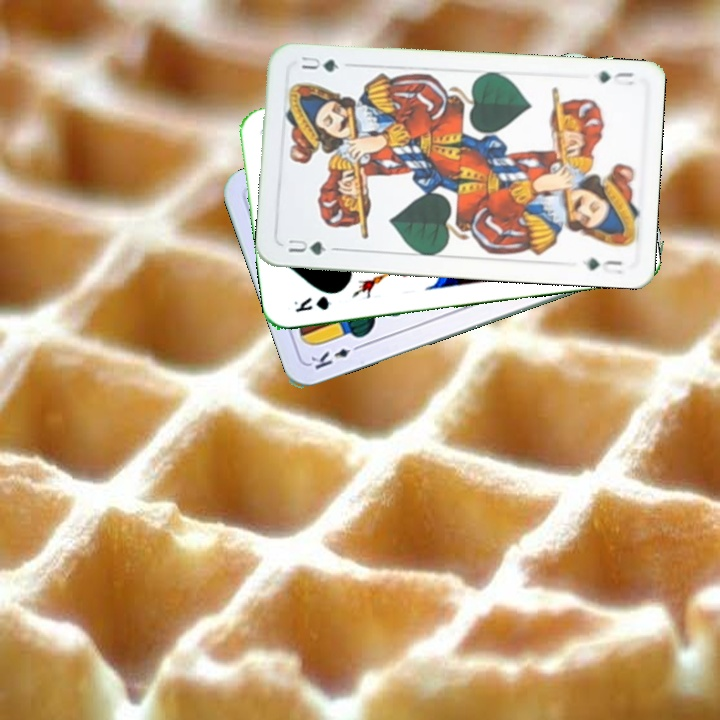EK: (306, 340, 365, 372)
GK: (290, 292, 335, 315)
GU: (284, 234, 329, 258), (594, 67, 638, 89)
